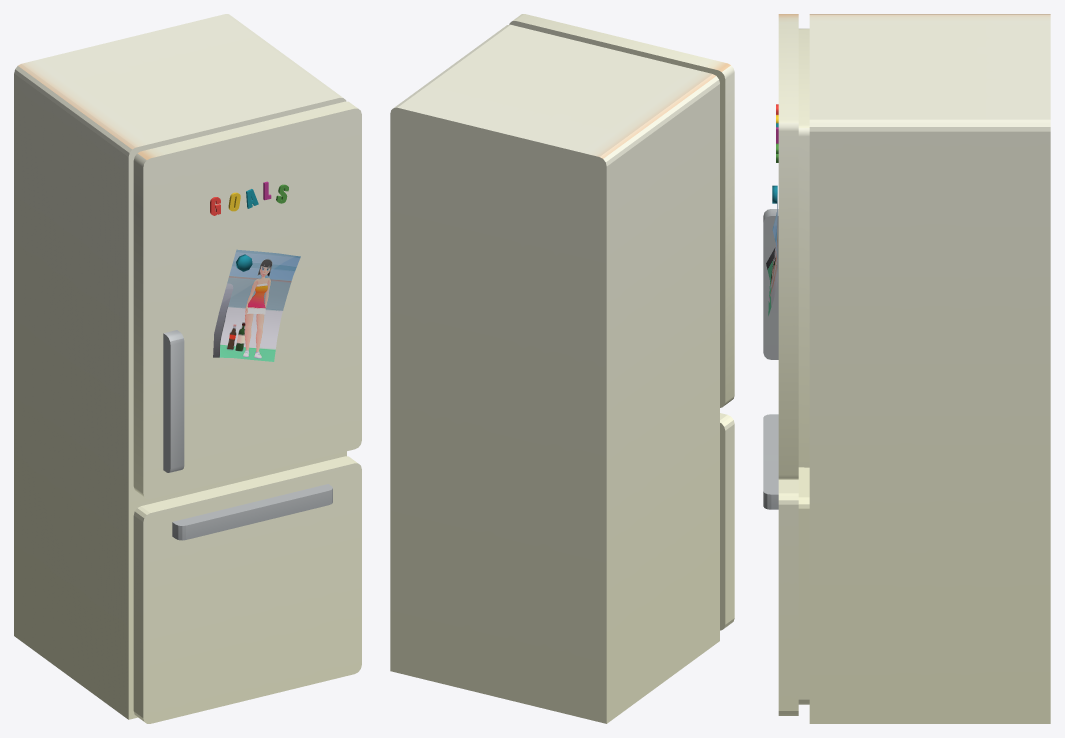
Rendered from Fridge.fbx.
The picture shows the model from 3 angles, left to right: view 1: azimuth 30°, elevation 25°; view 2: azimuth 150°, elevation 25°; view 3: azimuth 270°, elevation 25°; orthographic projection. The views are drawn at different scales.
Parts seen in each view (by area): view 1: Fridge, FridgeDoor, Freezer, Picture; view 2: Fridge, FridgeDoor, Freezer; view 3: Fridge, FridgeDoor, Freezer, Picture.
Boxes of the visible parts, x1,y1,x2,y2 form: Fridge: [14, 14, 346, 719]; FridgeDoor: [133, 101, 361, 499]; Freezer: [133, 456, 361, 723]; Picture: [213, 249, 300, 361]; Fridge: [390, 24, 719, 723]; FridgeDoor: [509, 14, 734, 407]; Freezer: [720, 413, 734, 630]; Fridge: [809, 14, 1050, 723]; FridgeDoor: [763, 14, 809, 479]; Freezer: [763, 414, 809, 715]; Picture: [766, 194, 777, 315].
Size of the model in its own units: 200 by 499 by 216.
